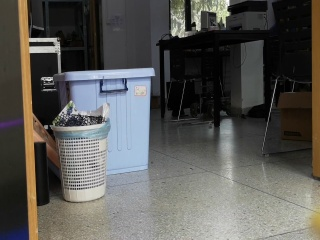room: (3, 6, 320, 228)
